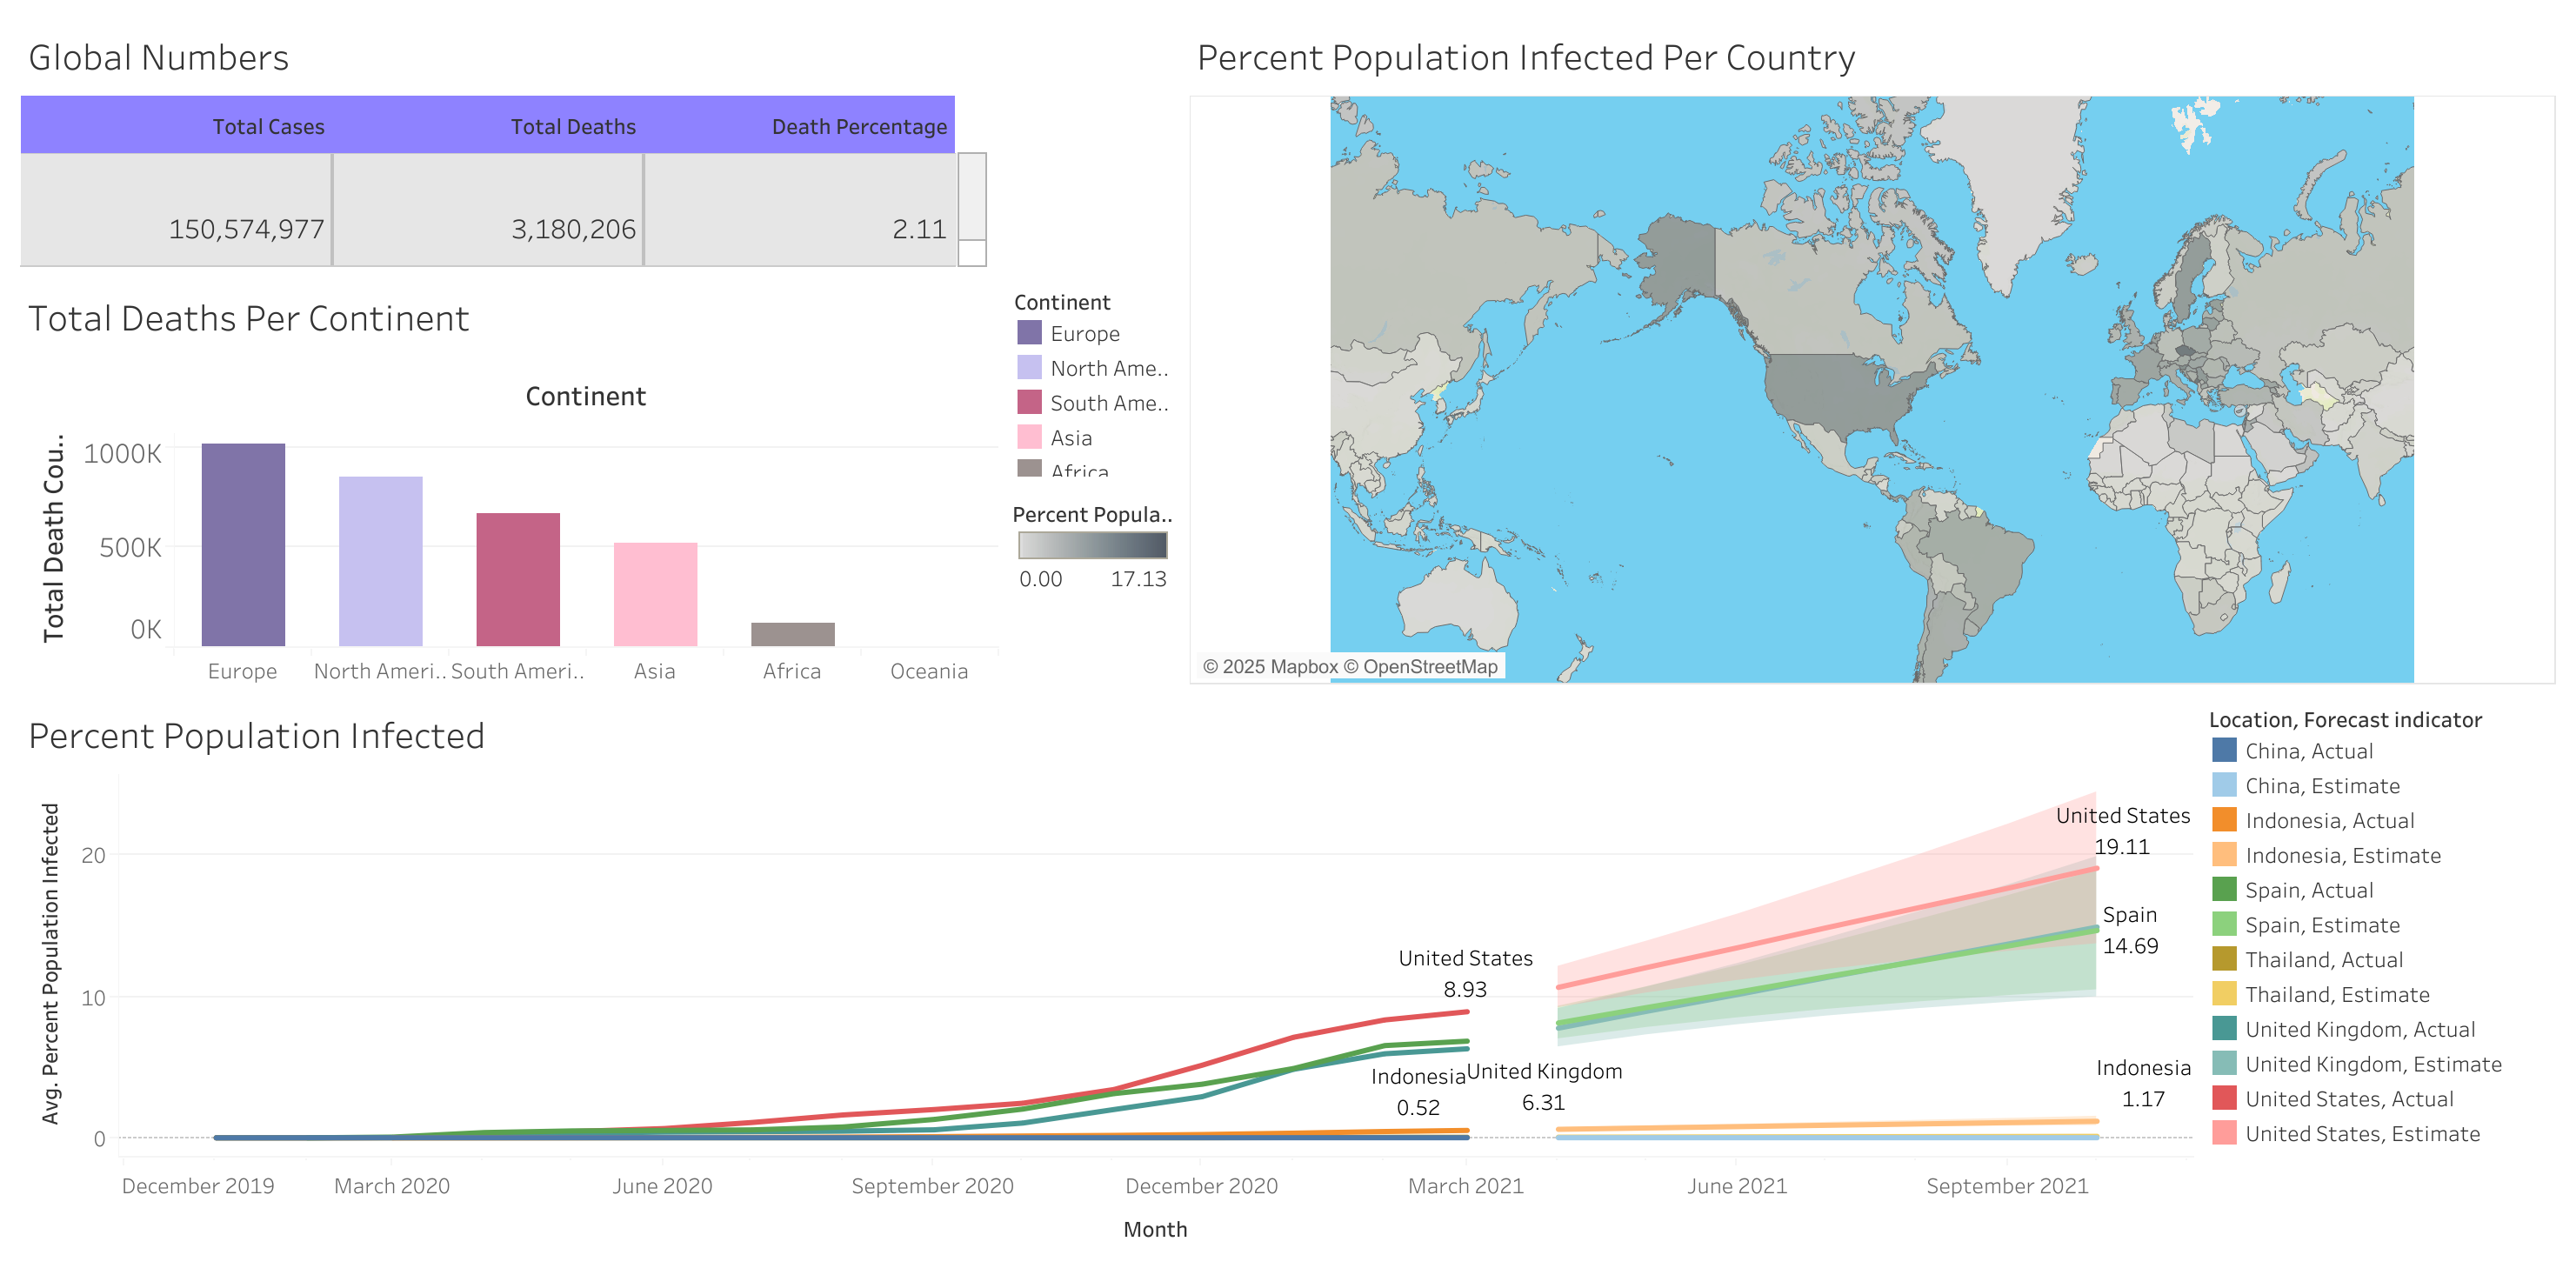

The page's visual inventory and layout, read from the dashboard file:
{"tool":"tableau","page":{"name":"Dashboard 1","canvas":[1000,1000],"units":"permille","ordinal":0},"visuals":[{"type":"worksheet","title":"Sheet 1","mark":"Automatic","box":[6.2,9.8,452.7,204.2]},{"type":"worksheet","title":"Sheet 3","mark":"Automatic","box":[458.9,9.8,535,532.6]},{"type":"worksheet","title":"Sheet 2","mark":"Automatic","rows":["TotalDeathCount"],"cols":["location"],"box":[6.2,214,384.3,328.4]},{"type":"legend","title":"Sheet 2","param":"[federated.164v9hq1k66hcm108u0uk1gyqw2v].[none:location:nk]","box":[390.5,214,68.4,164.2]},{"type":"legend","title":"Sheet 3","param":"[federated.0oc5bmt0y69fi41069mwn0v5qcyp].[sum:PercentPopulationInfected:qk]","box":[390.5,378.2,68.4,103.3]},{"type":"worksheet","title":"Sheet 4","mark":"Automatic","rows":["PercentPopulationInfected"],"cols":["date"],"box":[6.2,542.4,847.2,447.7]},{"type":"legend","title":"Sheet 4","param":"[federated.1m5kxfh1mws2031amk0y00qbfpzx].[none:Location:nk]\n[federated.1m5kxfh1m","box":[853.4,542.4,140.5,447.7]}]}

Visuals, with their boxes on the dashboard's canvas, which has no fixed pixel size, in thousandths of its width and height (x1, y1, x2, y2). These are canvas units, not pixel positions in the 2576x1275 screenshot, which may show the page scaled, cropped or inside an application window:
"Sheet 1" worksheet: 6 10 459 214
"Sheet 3" worksheet: 459 10 994 542
"Sheet 2" worksheet: 6 214 390 542
"Sheet 2" legend: 390 214 459 378
"Sheet 3" legend: 390 378 459 482
"Sheet 4" worksheet: 6 542 853 990
"Sheet 4" legend: 853 542 994 990
